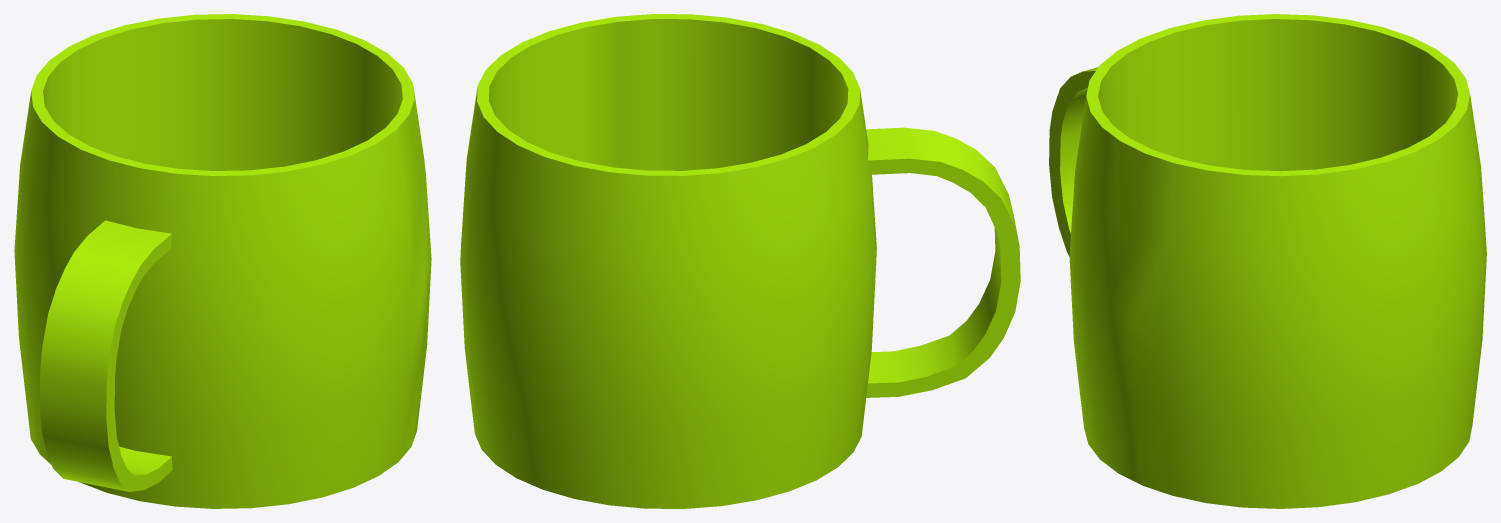
The model's file is ToyObject_215.fbx.
3 views of the same model, side by side, from view 1: azimuth 30°, elevation 25°; view 2: azimuth 150°, elevation 25°; view 3: azimuth 270°, elevation 25° (orthographic).
Visible parts, largest first — view 1: 1.025; view 2: 1.025; view 3: 1.025.
Boxes of the visible parts, bbox=[...] form: 1.025: bbox=[14, 14, 431, 508]; 1.025: bbox=[460, 14, 1020, 508]; 1.025: bbox=[1049, 14, 1486, 508].
Bounding box in the file's own units: 0.1559 × 0.1103 × 0.1319.
